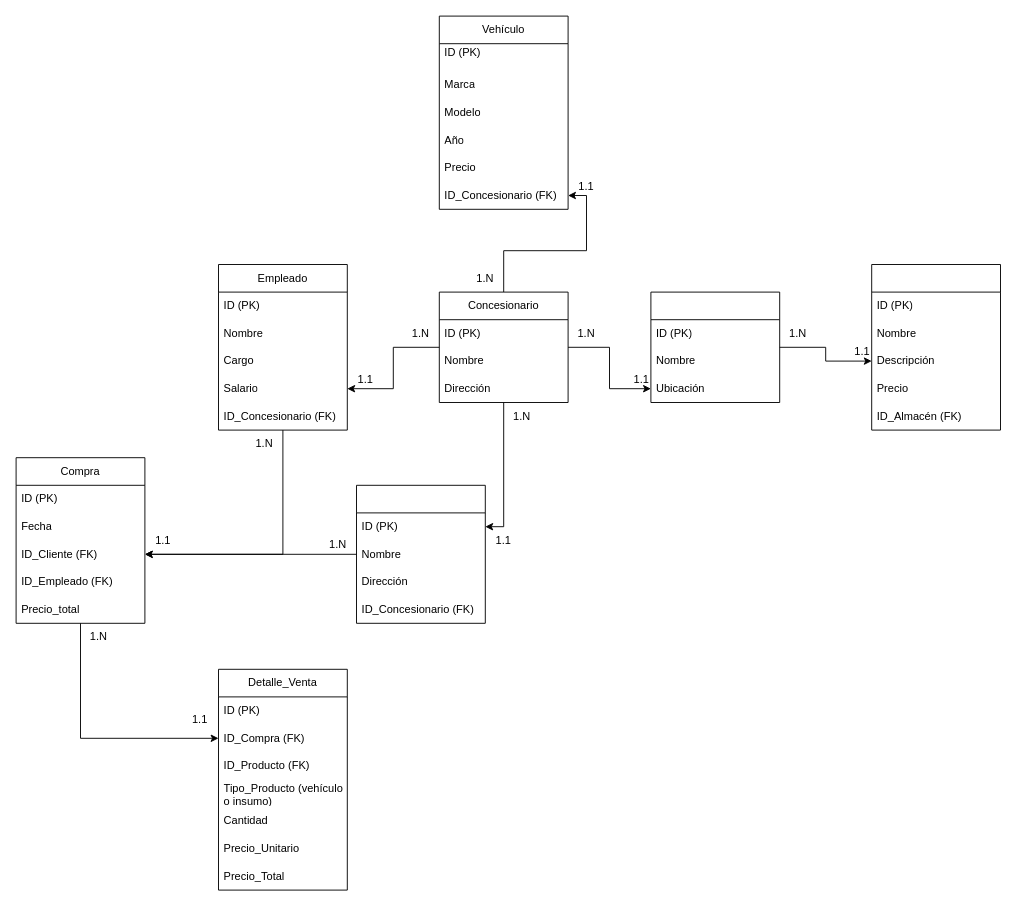
This 1017x906 diagram has some shape labels left out. The box of each missing label's shape, as (x1, y1, x2, y2) in pixels:
Almacén: (650, 291, 780, 402)
Cliente: (356, 484, 485, 623)
Insumo: (871, 264, 1000, 430)
